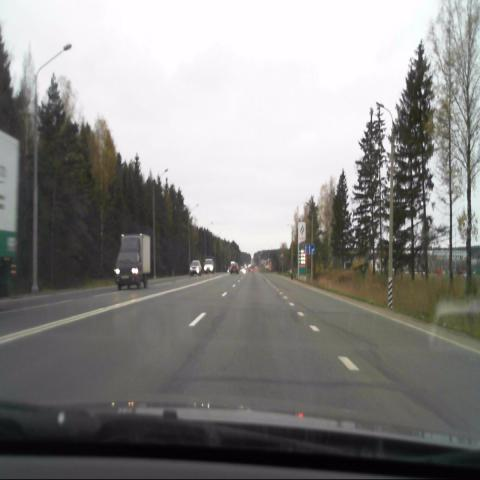5_15_1: (304, 244, 315, 255)
